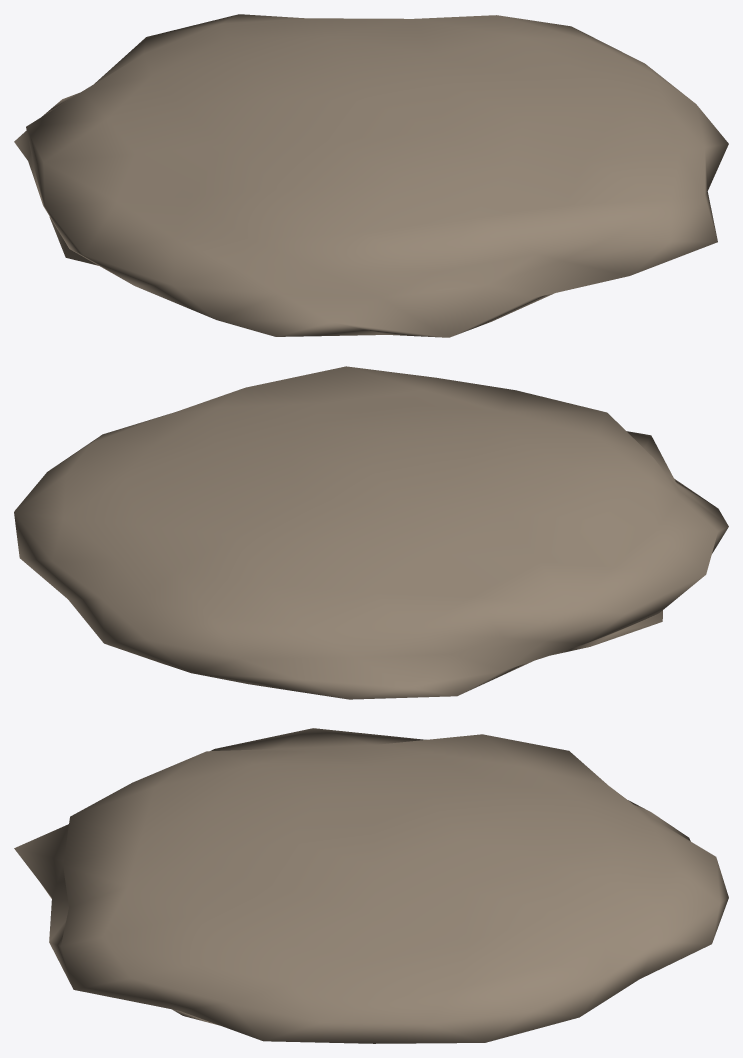
File: RainTurnip_Node_A.fbx
The picture shows the model from 3 angles, top to bottom: view 1: azimuth 30°, elevation 25°; view 2: azimuth 150°, elevation 25°; view 3: azimuth 270°, elevation 25°; orthographic projection. The views are drawn at different scales.
Parts seen in each view (by area): view 1: RainTurnip_Node_A; view 2: RainTurnip_Node_A; view 3: RainTurnip_Node_A.
Boxes of the visible parts, x1,y1,x2,y2 form: RainTurnip_Node_A: [14, 14, 728, 337]; RainTurnip_Node_A: [14, 366, 728, 699]; RainTurnip_Node_A: [14, 728, 728, 1043].
Size of the model in its own units: 0.5696 by 0.0721 by 0.583.
